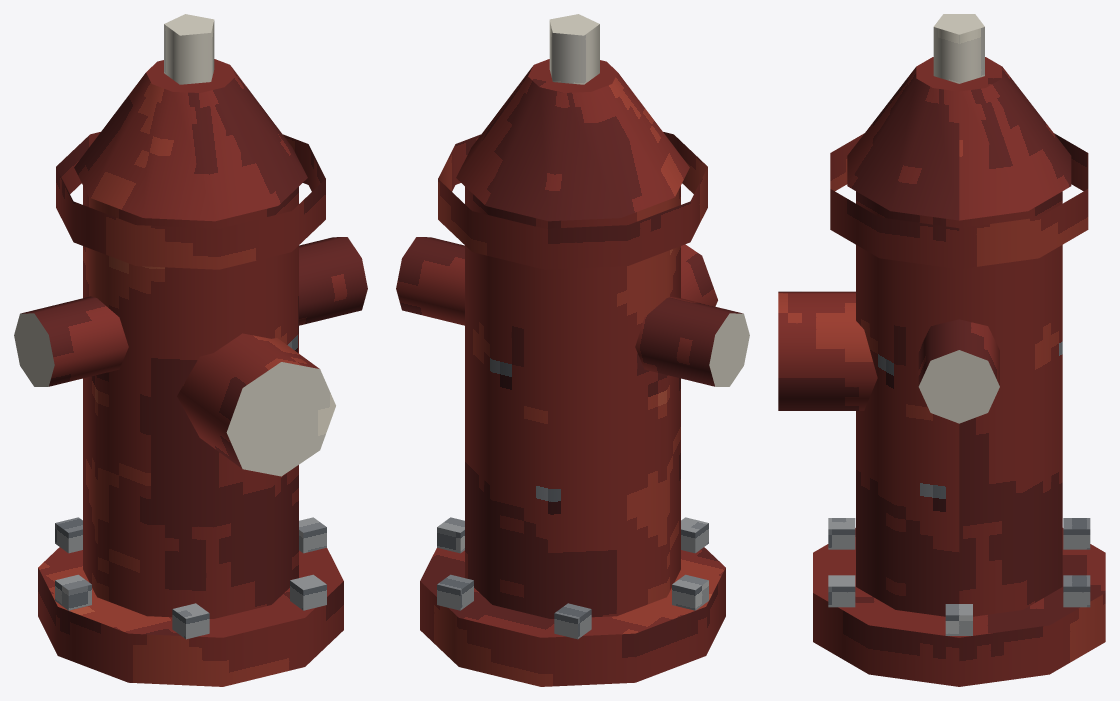
The model's file is SP_FireHydrant.obj.
The picture shows the model from 3 angles, left to right: view 1: azimuth 30°, elevation 25°; view 2: azimuth 150°, elevation 25°; view 3: azimuth 270°, elevation 25°; orthographic projection.
Visible parts, largest first — view 1: SP_FireHydrant_Mesh_M_Town_PaintRed, SP_FireHydrant_Mesh_M_Town_PaintWhite, SP_FireHydrant_Mesh_M_Furn_MetalBrushed; view 2: SP_FireHydrant_Mesh_M_Town_PaintRed, SP_FireHydrant_Mesh_M_Town_PaintWhite, SP_FireHydrant_Mesh_M_Furn_MetalBrushed; view 3: SP_FireHydrant_Mesh_M_Town_PaintRed, SP_FireHydrant_Mesh_M_Town_PaintWhite, SP_FireHydrant_Mesh_M_Furn_MetalBrushed.
Boxes of the visible parts, x1,y1,x2,y2 form: SP_FireHydrant_Mesh_M_Town_PaintRed: [21, 59, 367, 686]; SP_FireHydrant_Mesh_M_Town_PaintWhite: [14, 14, 335, 476]; SP_FireHydrant_Mesh_M_Furn_MetalBrushed: [55, 517, 326, 639]; SP_FireHydrant_Mesh_M_Town_PaintRed: [396, 59, 742, 686]; SP_FireHydrant_Mesh_M_Town_PaintWhite: [549, 14, 749, 386]; SP_FireHydrant_Mesh_M_Furn_MetalBrushed: [437, 517, 708, 639]; SP_FireHydrant_Mesh_M_Town_PaintRed: [778, 57, 1105, 686]; SP_FireHydrant_Mesh_M_Town_PaintWhite: [918, 14, 999, 423]; SP_FireHydrant_Mesh_M_Furn_MetalBrushed: [828, 518, 1090, 635].
Bounding box in the file's own units: 0.4 × 0.73 × 0.3617.
3 materials, 3 textured.
